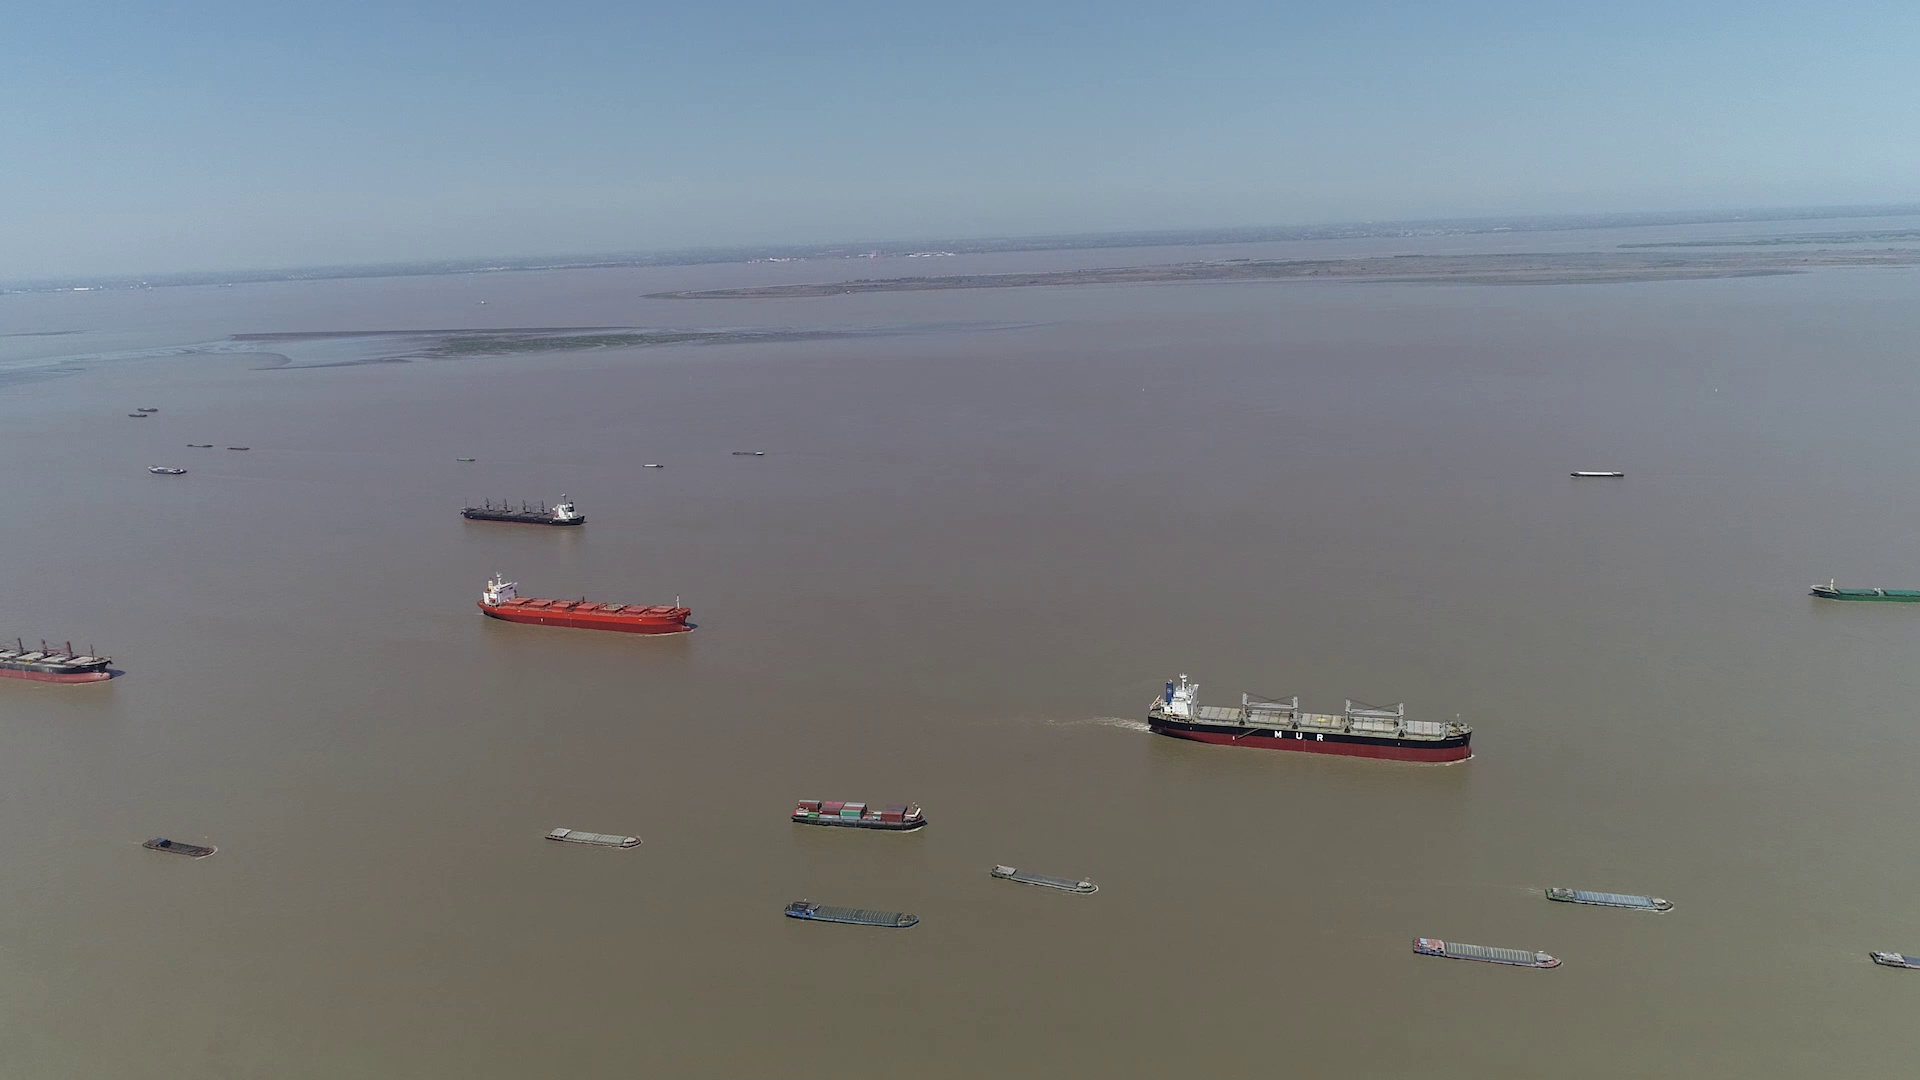ship: (1149, 674, 1474, 764), (481, 572, 691, 636), (0, 622, 119, 687), (1411, 936, 1559, 971), (793, 799, 926, 832), (785, 899, 920, 928), (462, 495, 584, 526), (1543, 884, 1673, 911), (992, 864, 1098, 895), (1809, 579, 1919, 601), (542, 825, 640, 851), (142, 835, 215, 857), (1869, 949, 1919, 975), (1571, 469, 1623, 479), (150, 464, 189, 473)
